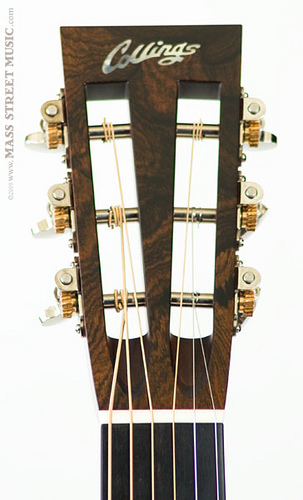guitar: (40, 22, 272, 500)
